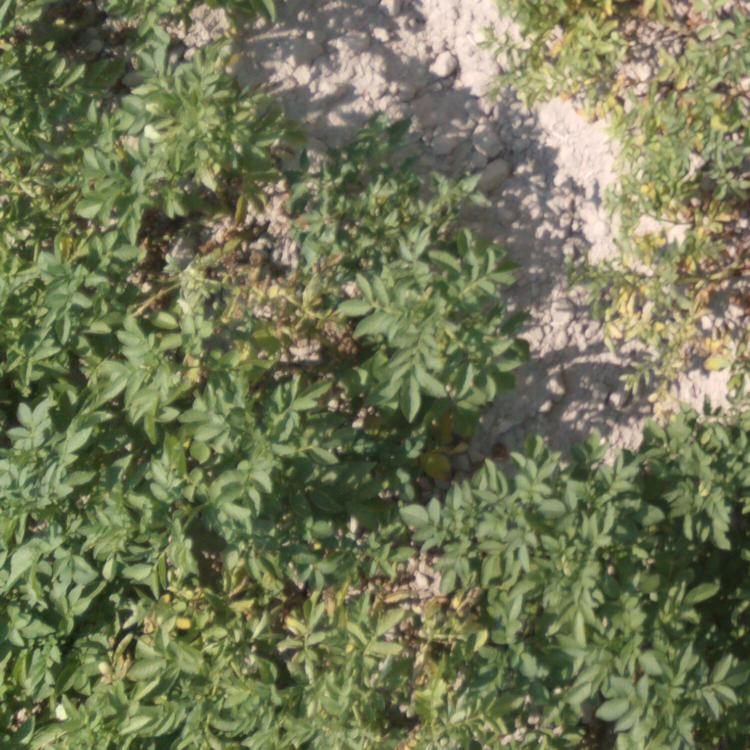healthy: (501, 419, 750, 750), (5, 161, 179, 536), (1, 550, 273, 747), (194, 347, 460, 533), (1, 3, 264, 162), (337, 139, 506, 344)
stressed: (279, 558, 491, 746), (616, 165, 747, 381), (605, 3, 750, 166), (190, 167, 322, 336), (482, 2, 603, 114)
